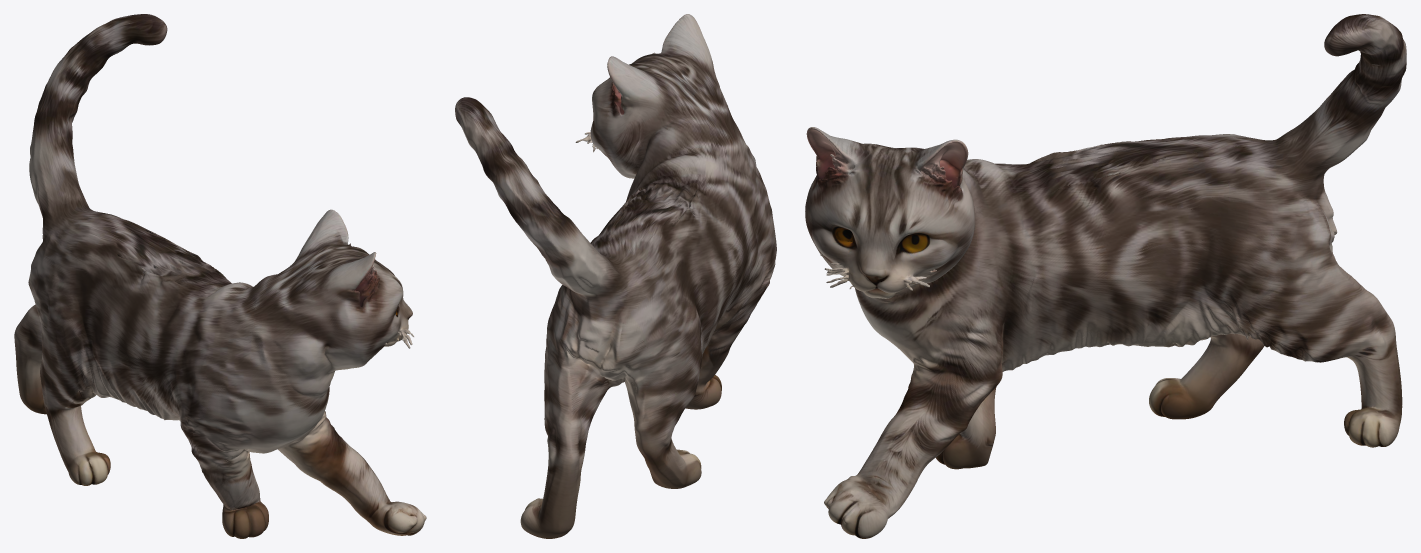
The model's file is cat_walk.glb.
3 views of the same model, side by side, from view 1: azimuth 30°, elevation 25°; view 2: azimuth 150°, elevation 25°; view 3: azimuth 270°, elevation 25° (orthographic). The views are drawn at different scales.
Parts seen in each view (by area): view 1: tripo_node_a1016abf-bb2b-41ba-a69b-77c9071b9fcf; view 2: tripo_node_a1016abf-bb2b-41ba-a69b-77c9071b9fcf; view 3: tripo_node_a1016abf-bb2b-41ba-a69b-77c9071b9fcf.
Part boxes in pixels (bbox=[...]): tripo_node_a1016abf-bb2b-41ba-a69b-77c9071b9fcf: bbox=[14, 14, 426, 538]; tripo_node_a1016abf-bb2b-41ba-a69b-77c9071b9fcf: bbox=[455, 14, 776, 538]; tripo_node_a1016abf-bb2b-41ba-a69b-77c9071b9fcf: bbox=[805, 14, 1406, 538].
Size of the model in its own units: 0.5342 by 0.876 by 1.
1 material, 1 textured.
